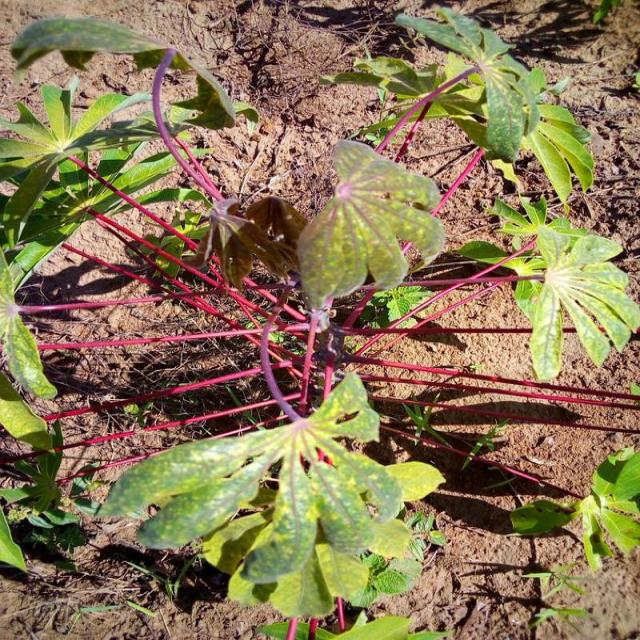cassava leaf: (90, 369, 447, 621), (294, 136, 445, 314)
